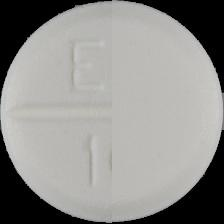42254-009: (0, 0, 224, 224)
